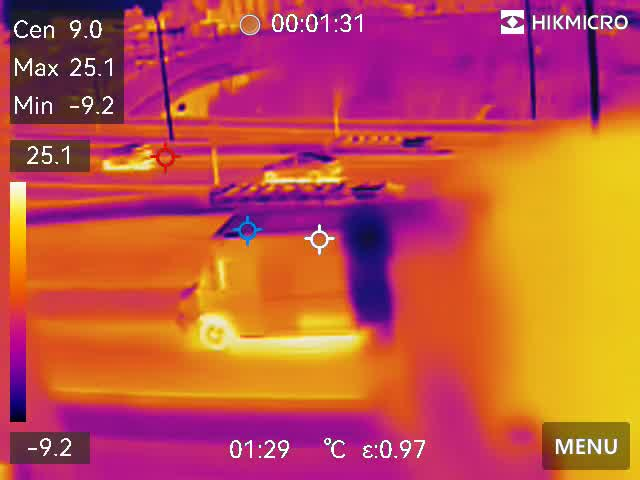heavyTruck: (175, 200, 410, 353)
smallCar: (259, 145, 345, 182)
vehicle: (100, 142, 165, 169)
